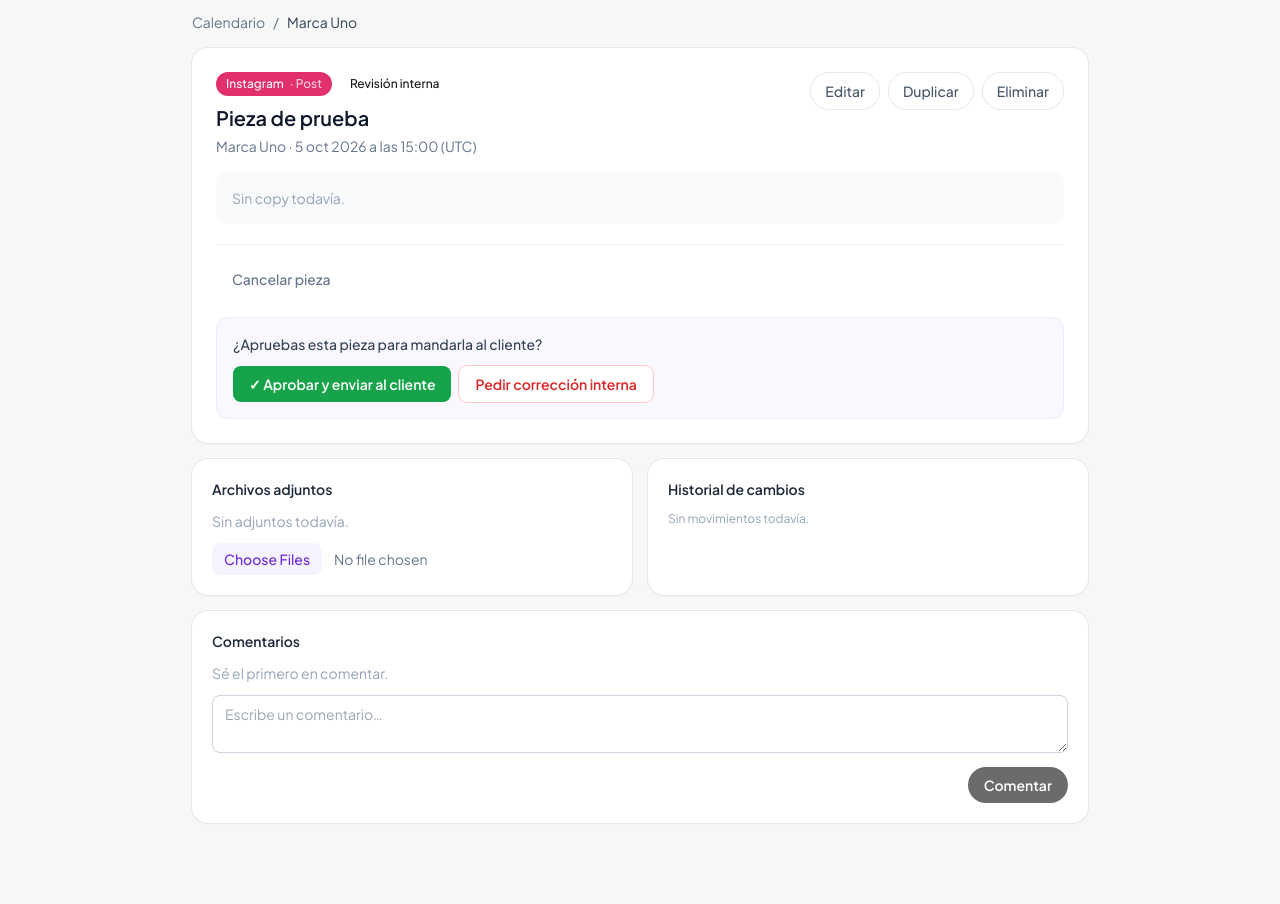
Scenario: ContentPieceDetail — revisión interna › "Pedir corrección interna" exige la nota antes de habilitar el envío
Click the button "Pedir corrección interna" at (556, 384), box x1=460 y1=366 x2=653 y2=402
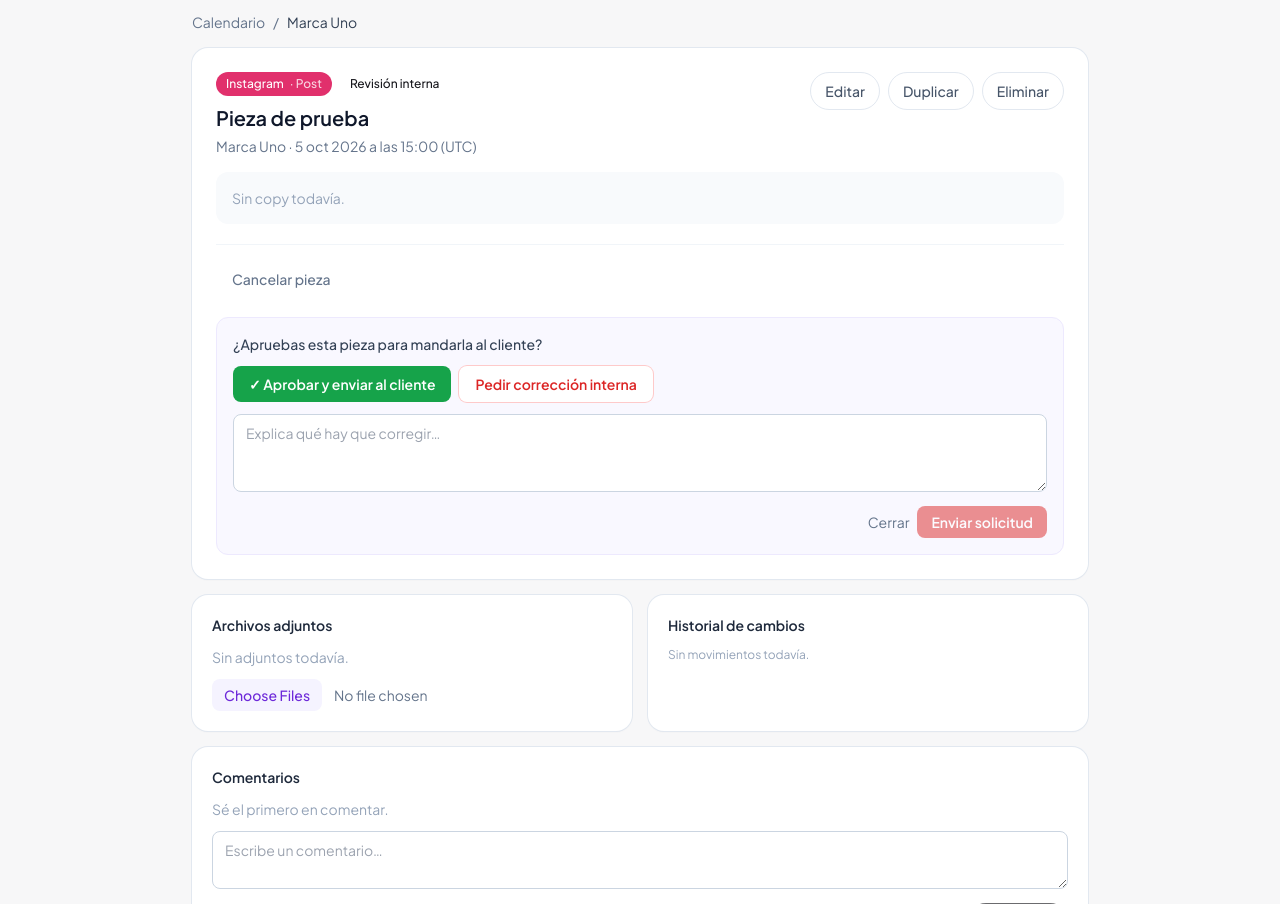
Expected: the button "Enviar solicitud" is disabled, x1=917 y1=506 x2=1047 y2=538
Type "Cambia la fecha" into the text box with placeholder "Explica qué hay que corregir…" at (640, 453), box x1=233 y1=414 x2=1047 y2=492
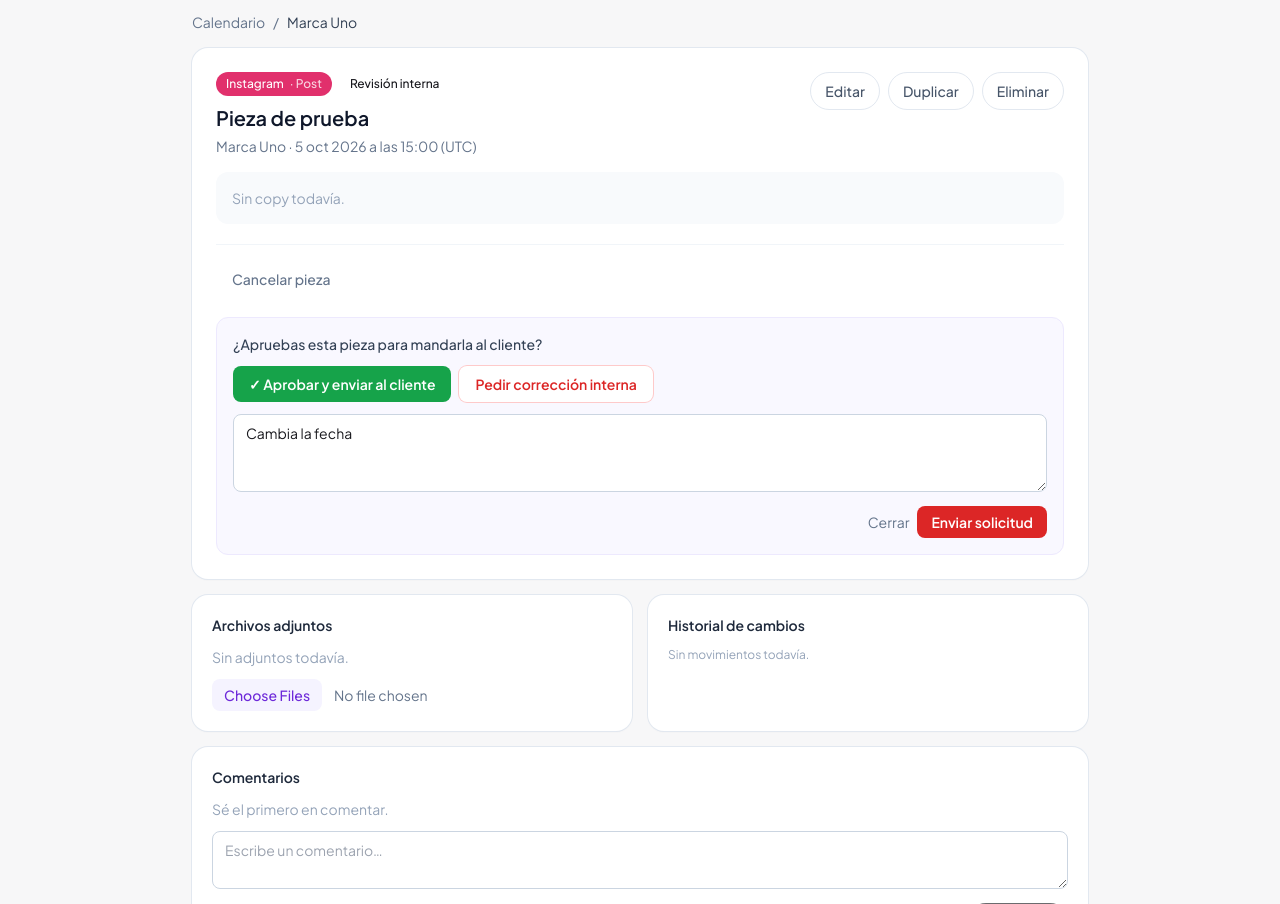
Expected: the button "Enviar solicitud" is enabled, x1=917 y1=506 x2=1047 y2=538
